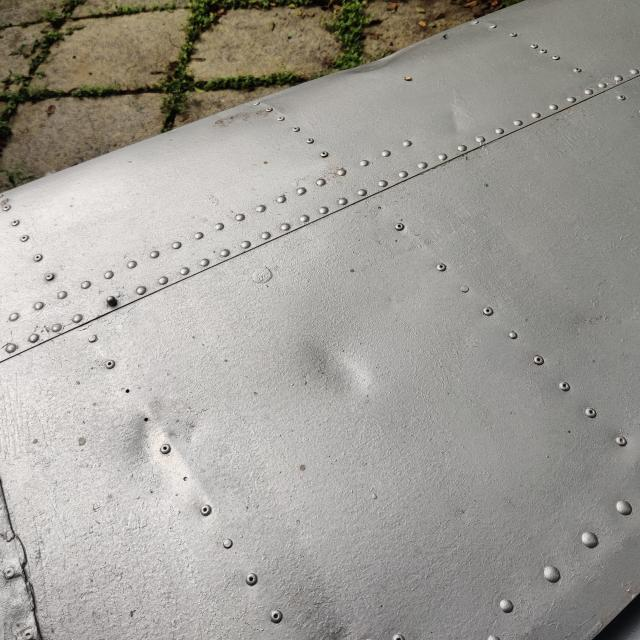dent: (282, 301, 412, 424), (100, 382, 216, 499)
